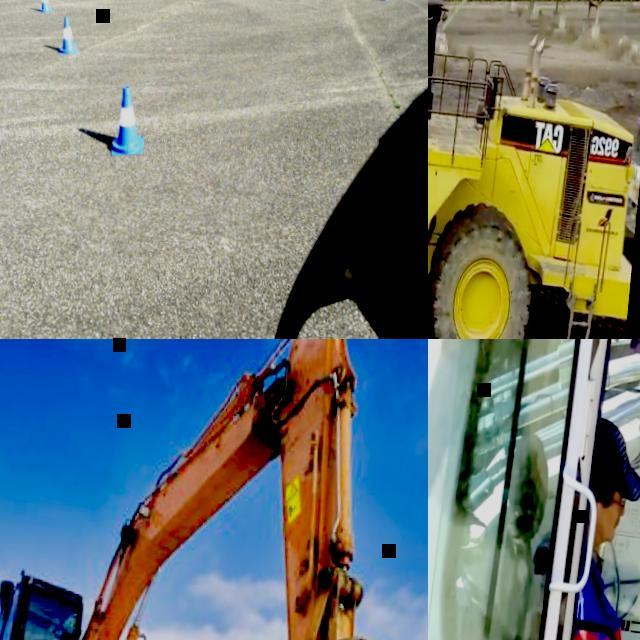vest: (560, 575, 637, 640)
